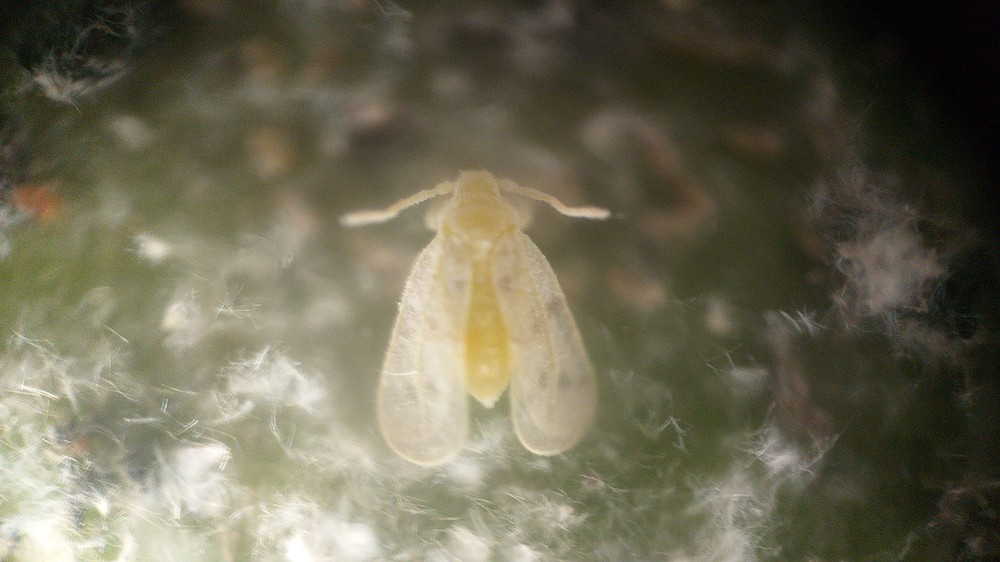Mosca Blanca: (338, 153, 641, 470)
